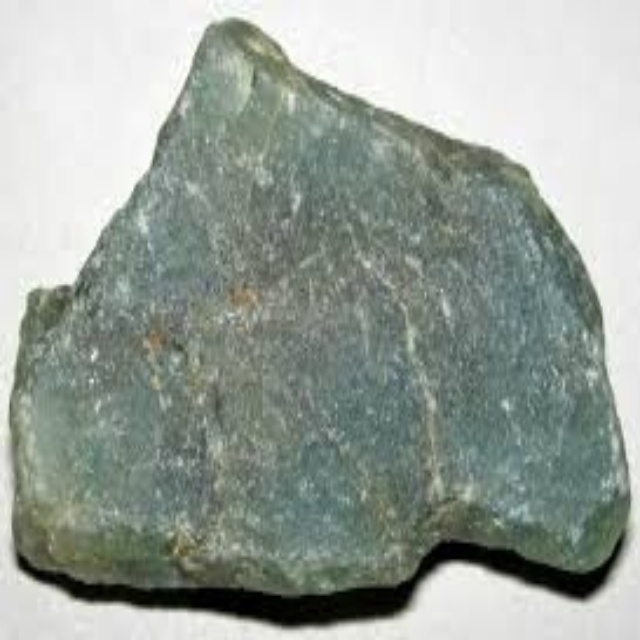obstacle: (9, 21, 628, 595)
